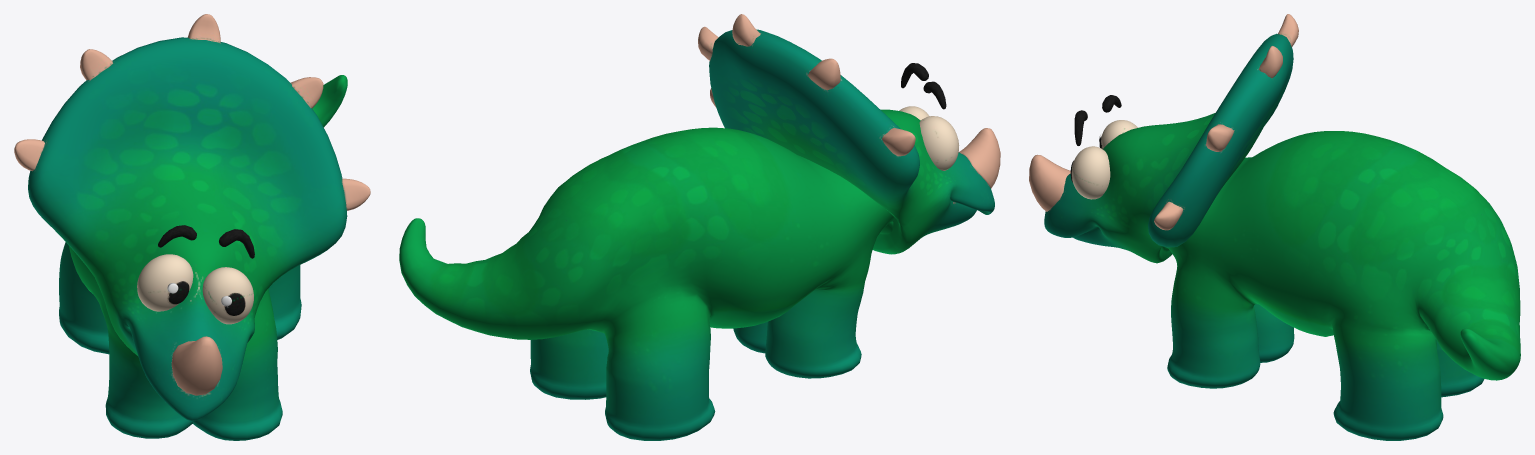
File: trice.glb
The picture shows the model from 3 angles, left to right: view 1: azimuth 30°, elevation 25°; view 2: azimuth 150°, elevation 25°; view 3: azimuth 270°, elevation 25°; orthographic projection. The views are drawn at different scales.
Parts seen in each view (by area): view 1: Trice_Unity_pose_v01:Triceratops_Rig_018:body_geo_High, Trice_Unity_pose_v01:Triceratops_Rig_018:horn5_low, Trice_Unity_pose_v01:Triceratops_Rig_018:rt_eye_low1, Trice_Unity_pose_v01:Triceratops_Rig_018:lf_eye_low1, Trice_Unity_pose_v01:Triceratops_Rig_018:lf_eyebrow_low, Trice_Unity_pose_v01:Triceratops_Rig_018:rt_eyebrow_low, Trice_Unity_pose_v01:Triceratops_Rig_018:lf_pupil_low1; view 2: Trice_Unity_pose_v01:Triceratops_Rig_018:body_geo_High, Trice_Unity_pose_v01:Triceratops_Rig_018:horn5_low, Trice_Unity_pose_v01:Triceratops_Rig_018:rt_eye_low1; view 3: Trice_Unity_pose_v01:Triceratops_Rig_018:body_geo_High, Trice_Unity_pose_v01:Triceratops_Rig_018:horn5_low, Trice_Unity_pose_v01:Triceratops_Rig_018:lf_eye_low1, Trice_Unity_pose_v01:Triceratops_Rig_018:rt_eye_low1.
Part boxes in pixels (x1=…): Trice_Unity_pose_v01:Triceratops_Rig_018:body_geo_High: x1=28, y1=37, x2=347, y2=440; Trice_Unity_pose_v01:Triceratops_Rig_018:horn5_low: x1=14, y1=14, x2=370, y2=395; Trice_Unity_pose_v01:Triceratops_Rig_018:rt_eye_low1: x1=137, y1=254, x2=193, y2=311; Trice_Unity_pose_v01:Triceratops_Rig_018:lf_eye_low1: x1=202, y1=267, x2=253, y2=324; Trice_Unity_pose_v01:Triceratops_Rig_018:lf_eyebrow_low: x1=219, y1=229, x2=254, y2=258; Trice_Unity_pose_v01:Triceratops_Rig_018:rt_eyebrow_low: x1=158, y1=225, x2=196, y2=247; Trice_Unity_pose_v01:Triceratops_Rig_018:lf_pupil_low1: x1=224, y1=293, x2=245, y2=315; Trice_Unity_pose_v01:Triceratops_Rig_018:body_geo_High: x1=399, y1=29, x2=994, y2=440; Trice_Unity_pose_v01:Triceratops_Rig_018:horn5_low: x1=698, y1=14, x2=1000, y2=188; Trice_Unity_pose_v01:Triceratops_Rig_018:rt_eye_low1: x1=919, y1=116, x2=959, y2=170; Trice_Unity_pose_v01:Triceratops_Rig_018:body_geo_High: x1=1044, y1=33, x2=1520, y2=440; Trice_Unity_pose_v01:Triceratops_Rig_018:horn5_low: x1=1029, y1=14, x2=1298, y2=230; Trice_Unity_pose_v01:Triceratops_Rig_018:lf_eye_low1: x1=1072, y1=146, x2=1110, y2=199; Trice_Unity_pose_v01:Triceratops_Rig_018:rt_eye_low1: x1=1101, y1=120, x2=1137, y2=148.
Bounding box in the file's own units: 1.09 × 0.9083 × 1.2.
Materials: 2 (2 with a texture image).
